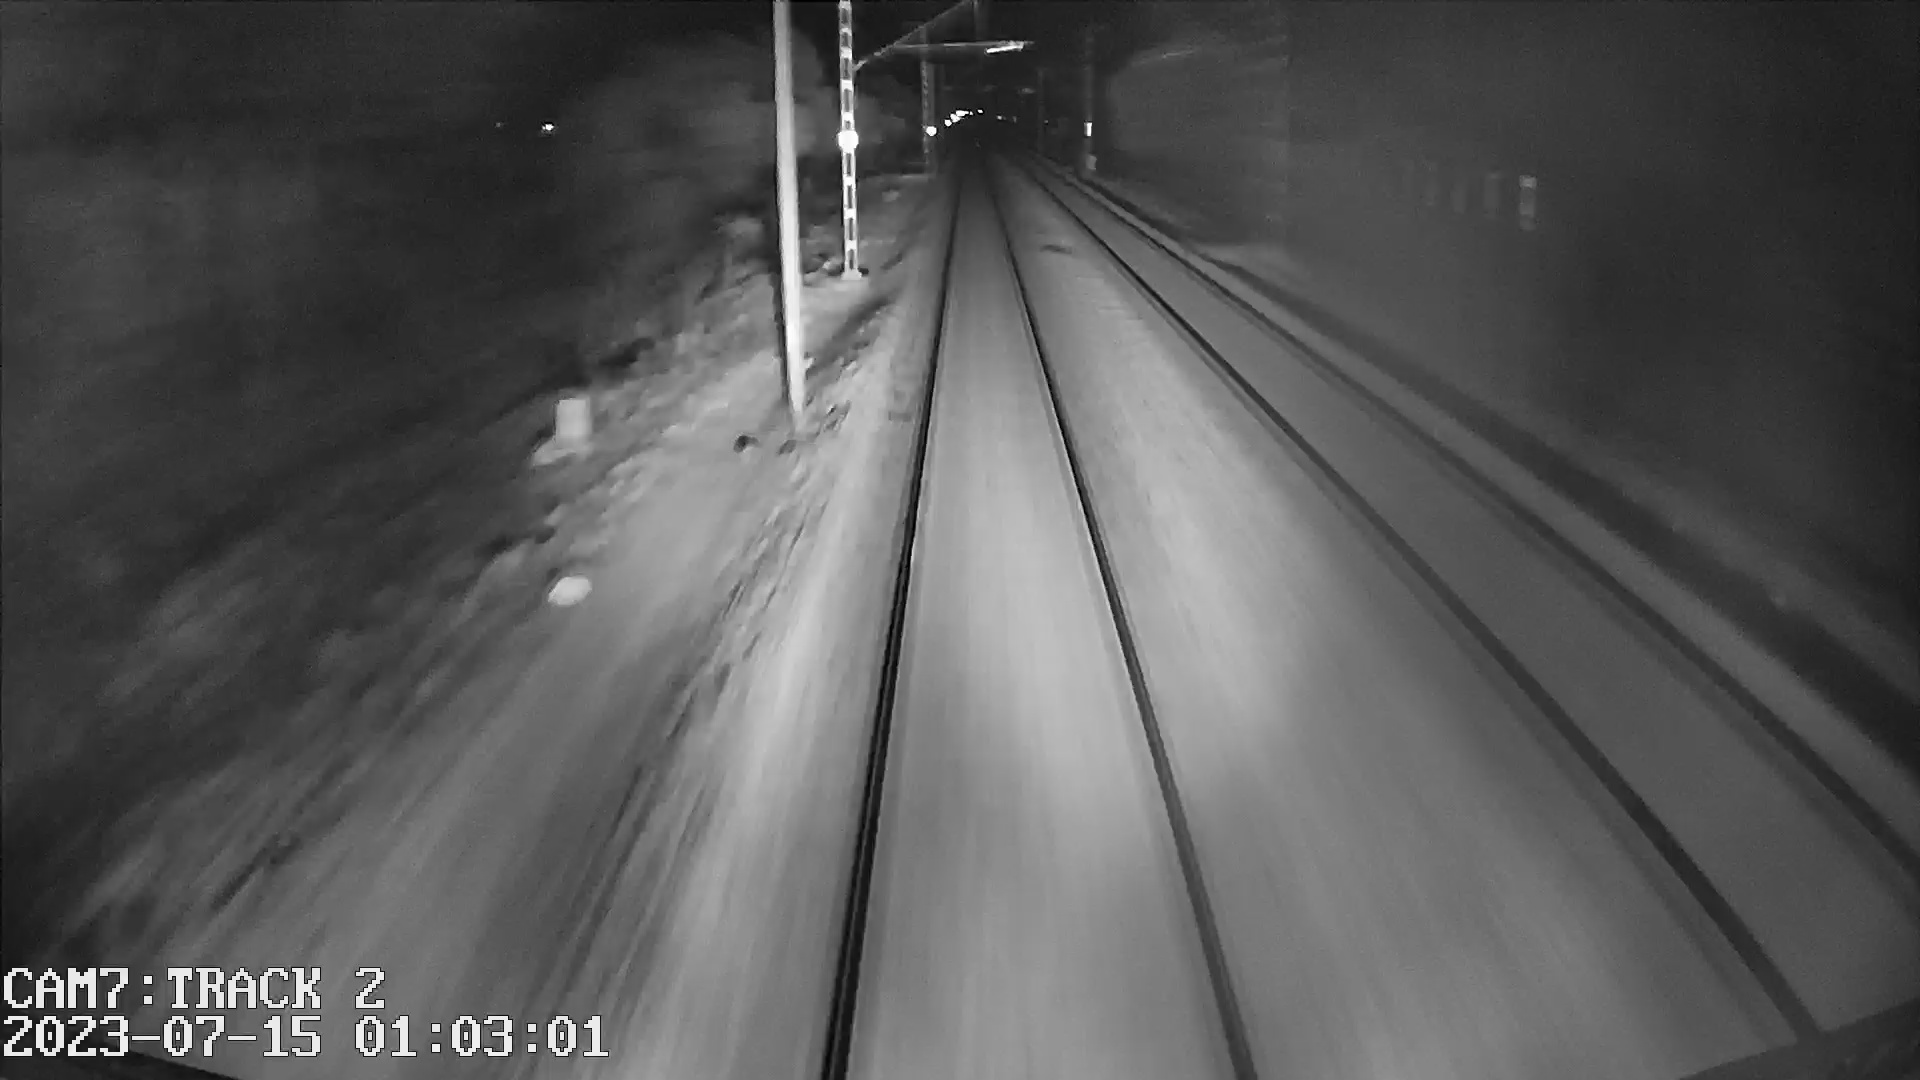track1: (841, 183, 1247, 1061)
track2: (1049, 185, 1907, 1015)
